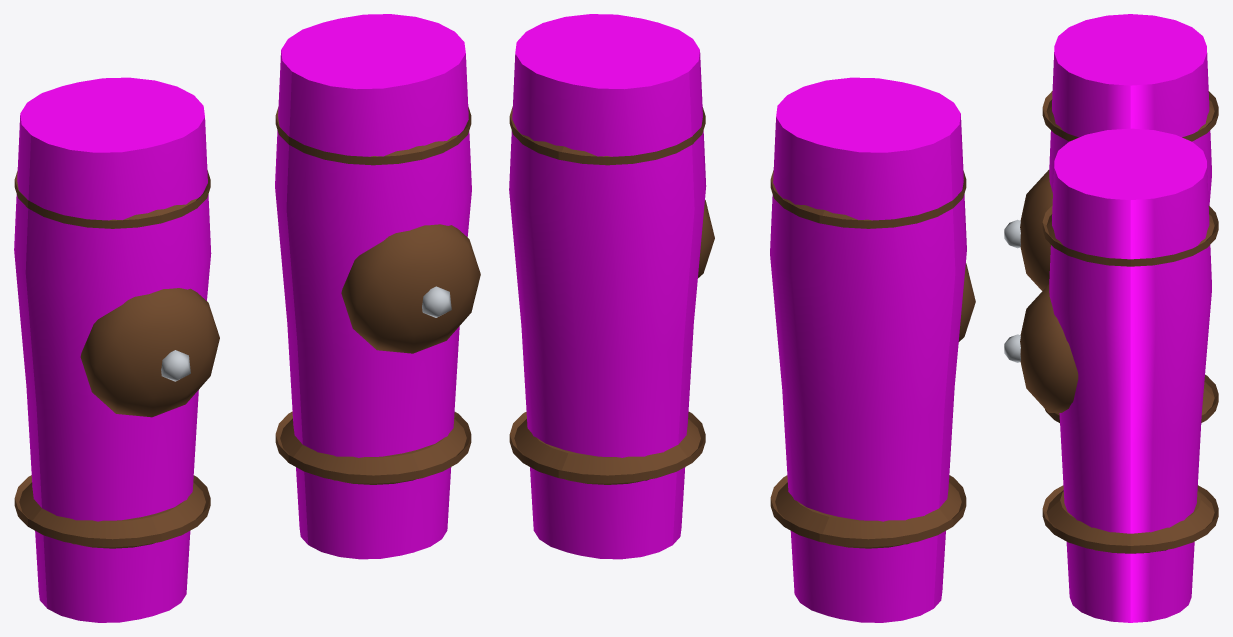
The model's file is objet_armure1_jambieres.glb.
3 renders of one model, left to right at view 1: azimuth 30°, elevation 25°; view 2: azimuth 150°, elevation 25°; view 3: azimuth 270°, elevation 25°, orthographic. The views are drawn at different scales.
Visible parts, largest first — view 1: jambieres_teinte.006, jambieres_sac_cuir.002, jambieres_rivet.004; view 2: jambieres_teinte.006, jambieres_sac_cuir.002; view 3: jambieres_teinte.006, jambieres_sac_cuir.002, jambieres_rivet.004.
Boxes of the visible parts, box(x1,y1,x2,y2) form: jambieres_teinte.006: box(14, 14, 471, 622); jambieres_sac_cuir.002: box(14, 106, 480, 548); jambieres_rivet.004: box(161, 286, 451, 381); jambieres_teinte.006: box(509, 14, 966, 622); jambieres_sac_cuir.002: box(509, 106, 975, 548); jambieres_teinte.006: box(1049, 14, 1211, 622); jambieres_sac_cuir.002: box(1020, 91, 1218, 553); jambieres_rivet.004: box(1004, 219, 1020, 362).
Size of the model in its own units: 0.2 by 0.21 by 0.095.
